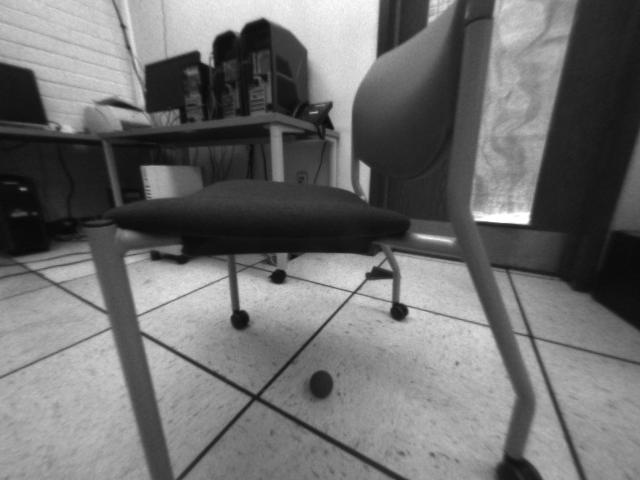dogtoy: (304, 365, 340, 404)
